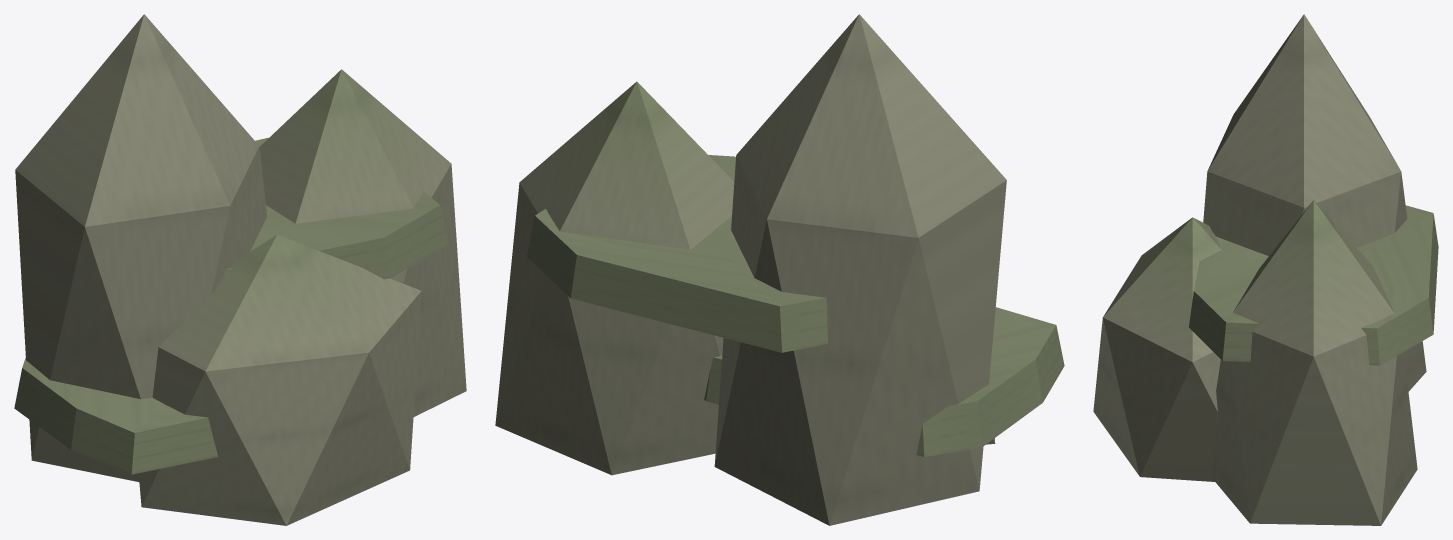
File: cliff-karst-lod1.glb
3 views of the same model, side by side, from view 1: azimuth 30°, elevation 25°; view 2: azimuth 150°, elevation 25°; view 3: azimuth 270°, elevation 25° (orthographic). The views are drawn at different scales.
Bounding box in the file's own units: 0.4616 × 0.455 × 0.354.
Materials: 1 (1 with a texture image).
